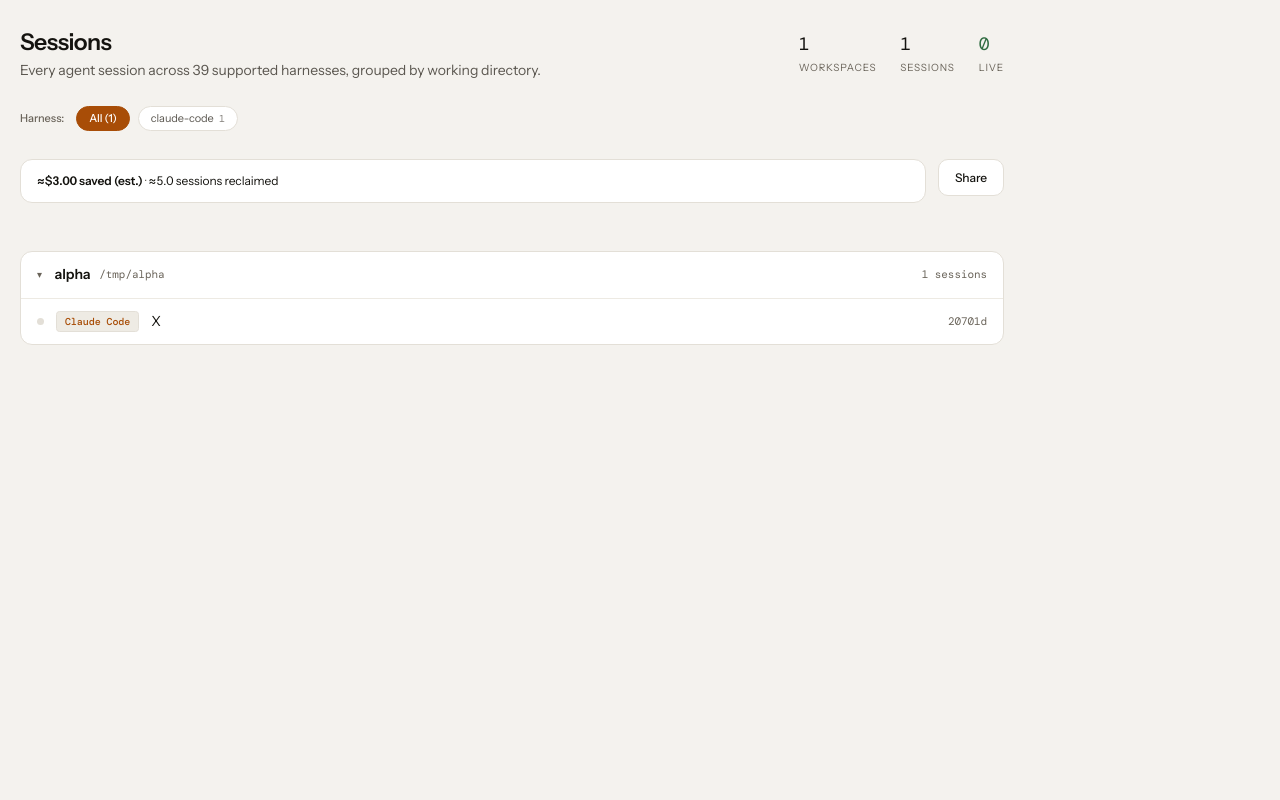
Test: WorkspaceSessionList › opens the share modal with the card svg when Share is clicked
Click the button "Share": point(971, 178) [938,159,1004,196]
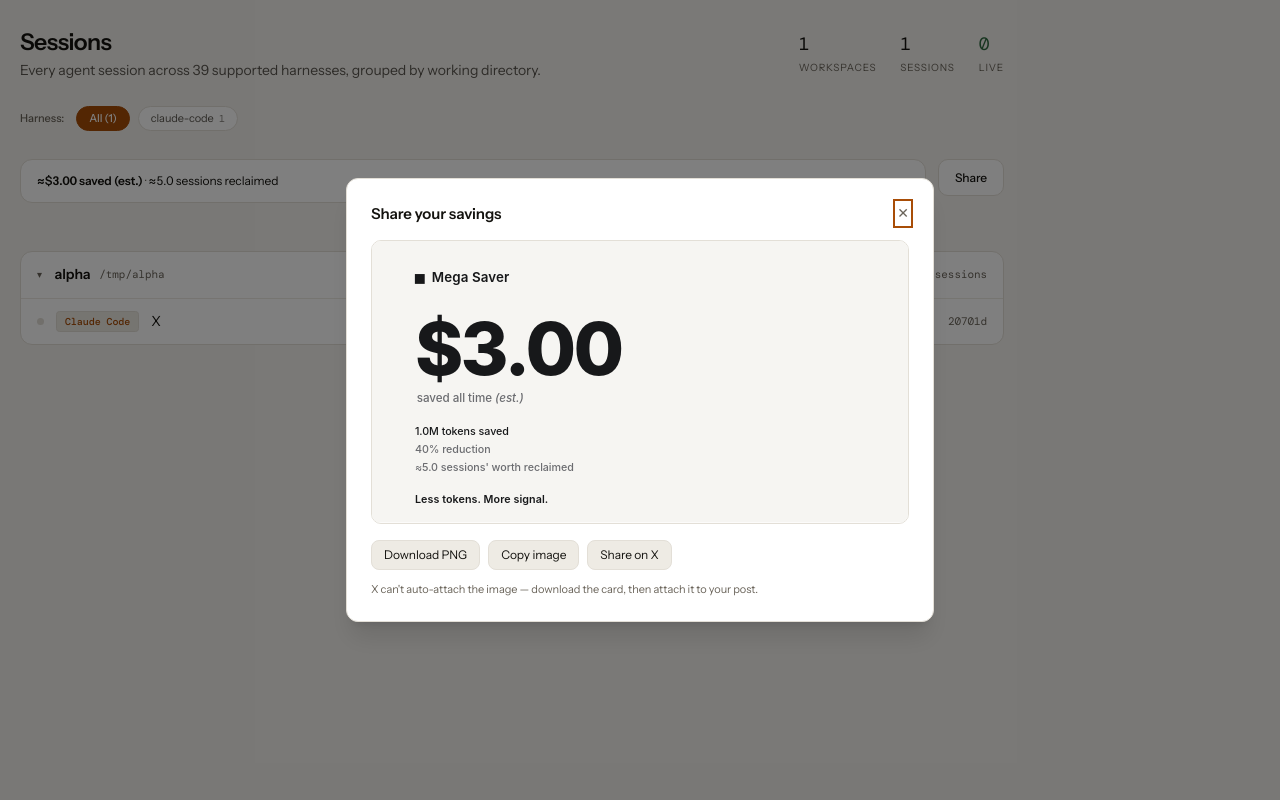
Check: the dialog is shown
Check: the picture named "Mega Saver savings card" is shown, box [372,241,908,523]
